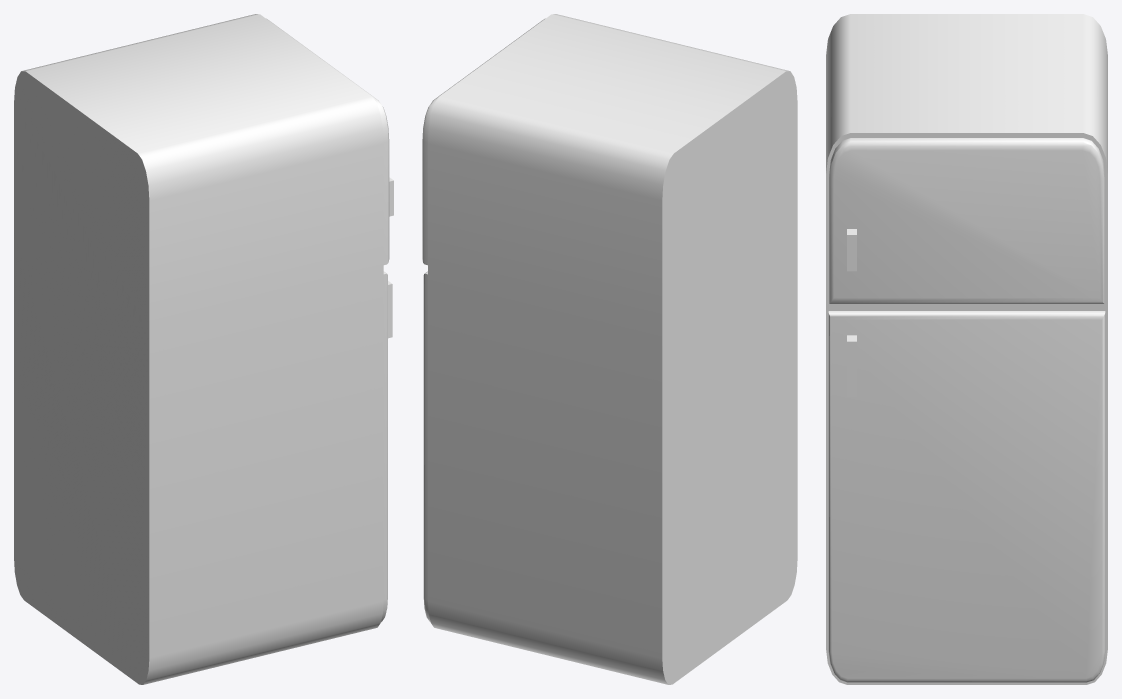
Rendered from Geladeira.fbx.
3 views of the same model, side by side, from view 1: azimuth 30°, elevation 25°; view 2: azimuth 150°, elevation 25°; view 3: azimuth 270°, elevation 25° (orthographic). The views are drawn at different scales.
Visible parts, largest first — view 1: Cube; view 2: Cube; view 3: Cube, Cube.002.
Boxes of the visible parts, box(x1,y1,x2,y2) form: Cube: box(14, 14, 389, 684); Cube: box(422, 14, 797, 684); Cube: box(826, 14, 1107, 684); Cube.002: box(847, 229, 856, 396).
Size of the model in its own units: 217 by 432 by 200.
